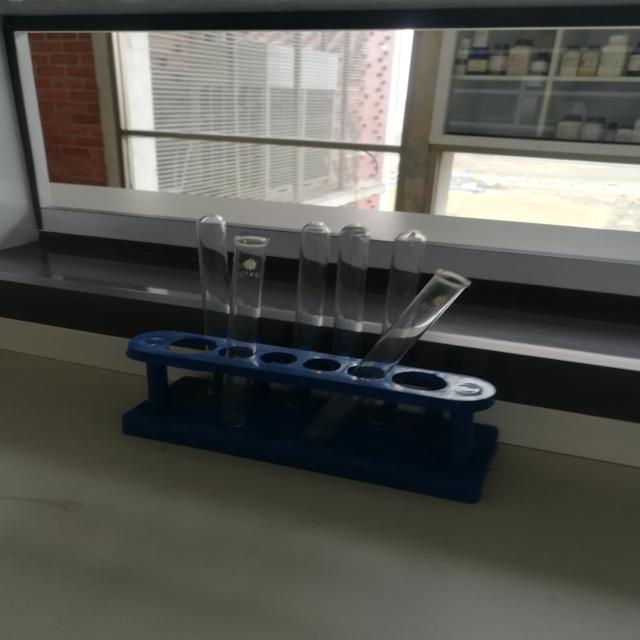Test_Tube: (140, 171, 509, 483)
